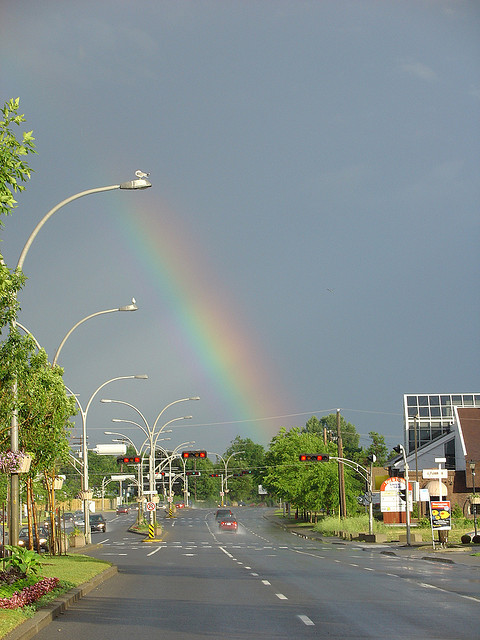Car: (215, 518, 250, 538), (91, 516, 109, 537)
Traffic light: (297, 453, 360, 471), (174, 451, 212, 466), (111, 455, 145, 468)
Zebra crossing: (154, 541, 336, 554)
